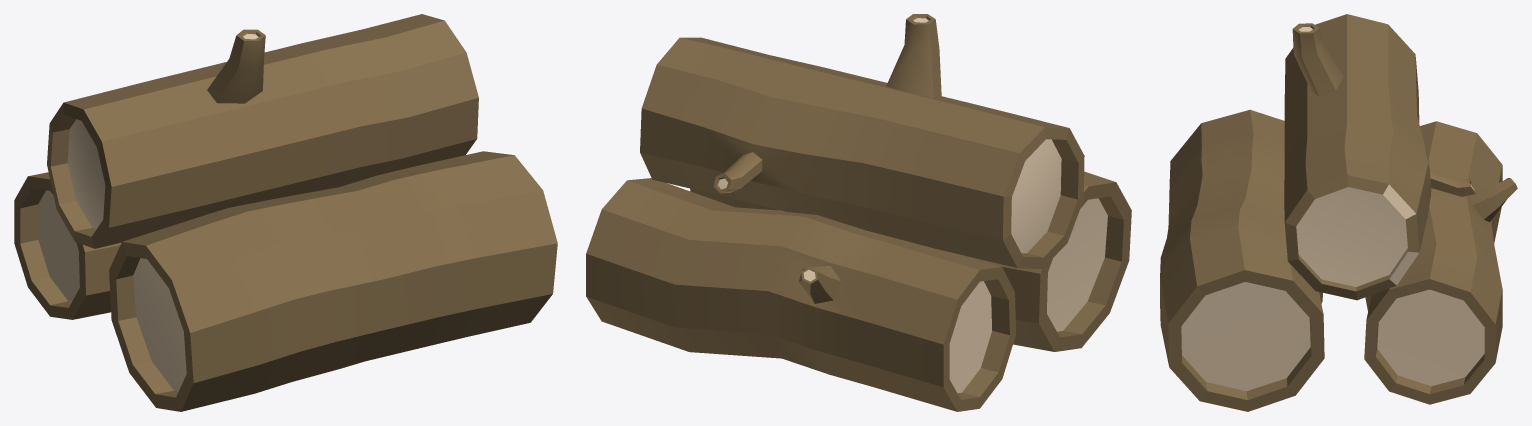
File: logs.fbx
3 renders of one model, left to right at view 1: azimuth 30°, elevation 25°; view 2: azimuth 150°, elevation 25°; view 3: azimuth 270°, elevation 25°, orthographic. The views are drawn at different scales.
Parts seen in each view (by area): view 1: geo_logs; view 2: geo_logs; view 3: geo_logs.
Part boxes in pixels (bbox=[...]): geo_logs: bbox=[14, 14, 557, 411]; geo_logs: bbox=[586, 14, 1131, 411]; geo_logs: bbox=[1160, 14, 1517, 411].
Bounding box in the file's own units: 1.2 × 0.9586 × 1.06.
